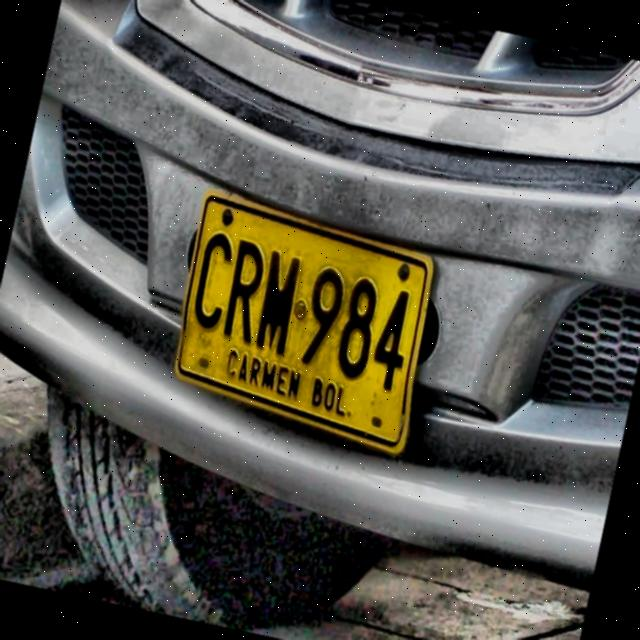4: (366, 285, 419, 395)
8: (331, 272, 385, 384)
9: (296, 261, 349, 371)
C: (187, 227, 238, 338)
M: (252, 246, 304, 358)
R: (219, 235, 270, 348)
